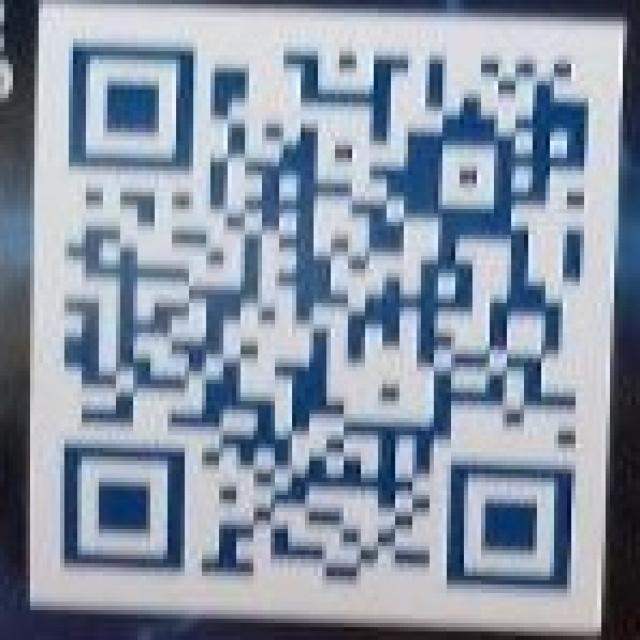QR_CODE: (60, 38, 594, 595)
